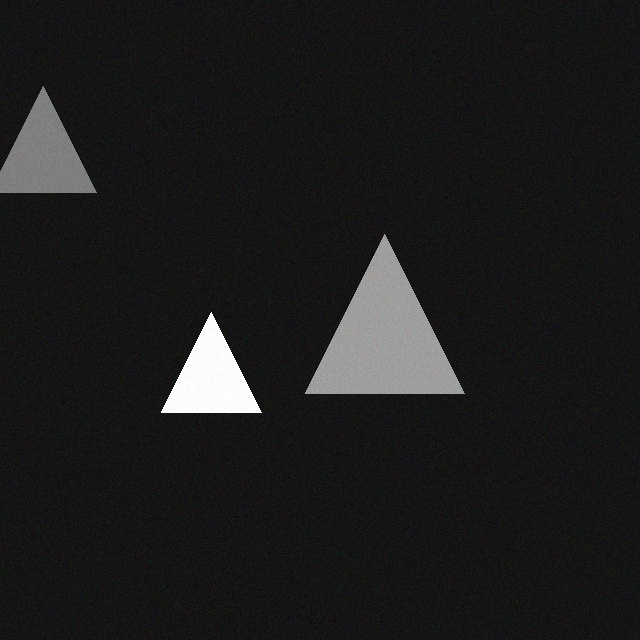triangle: (318, 244, 477, 403), (3, 96, 109, 202), (174, 322, 274, 422)
